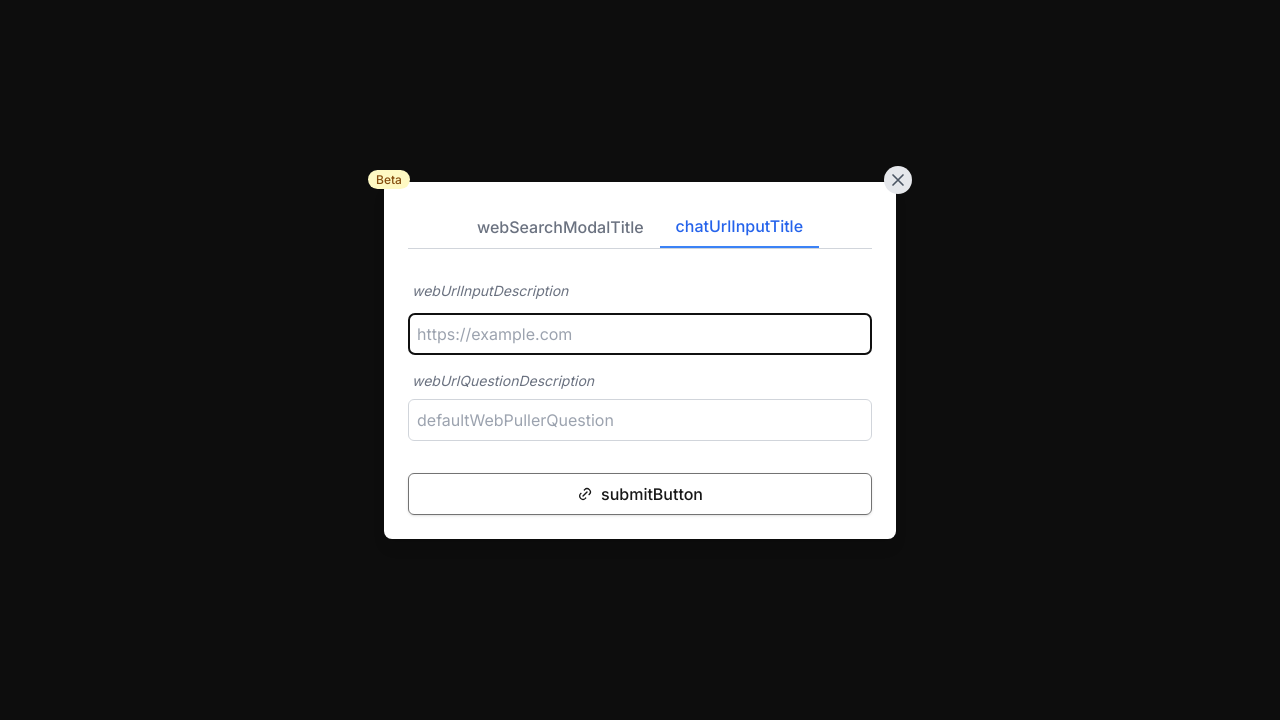
Scenario: ChatInputSearch Component › URL Mode › should auto-populate question input if url is entered and question is empty
Type "http://test.com" into the field with placeholder "https://example.com".
click(640, 334); type("http://test.com")  # box [408,312,872,354]
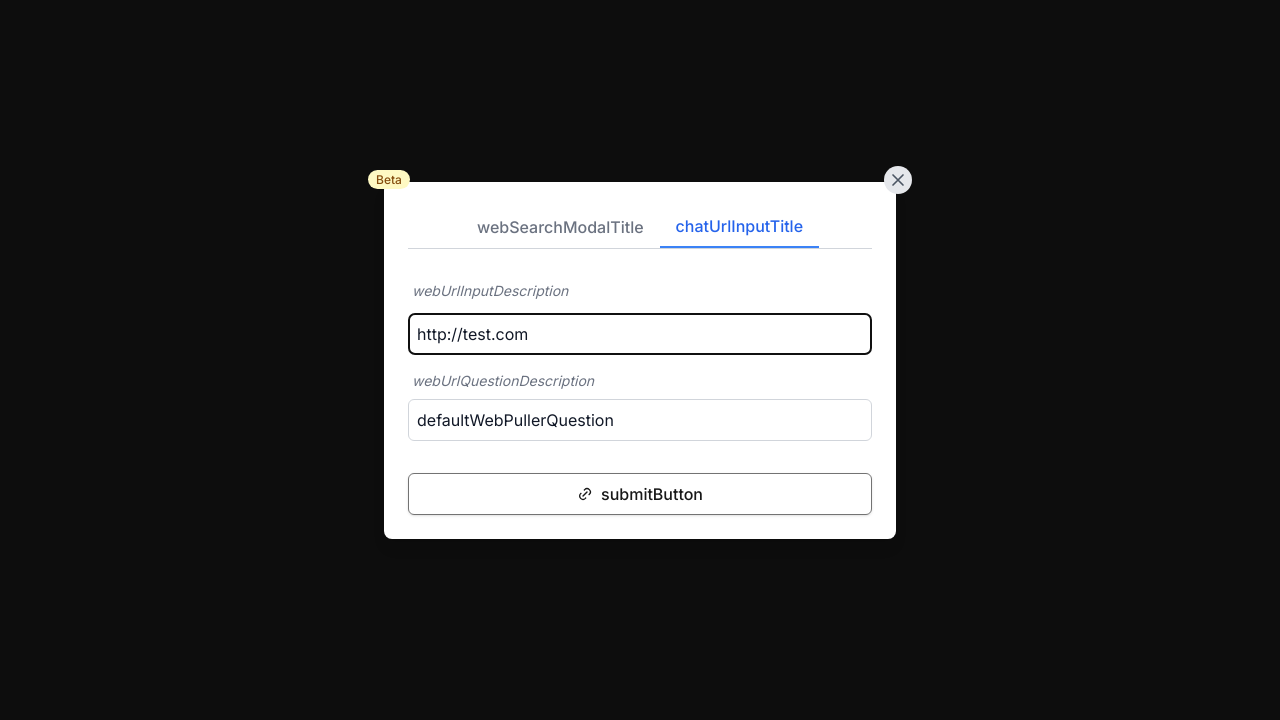
Result: the field with placeholder "defaultWebPullerQuestion" below "webUrlQuestionDescription" holds "defaultWebPullerQuestion" at [408,398,872,440]
